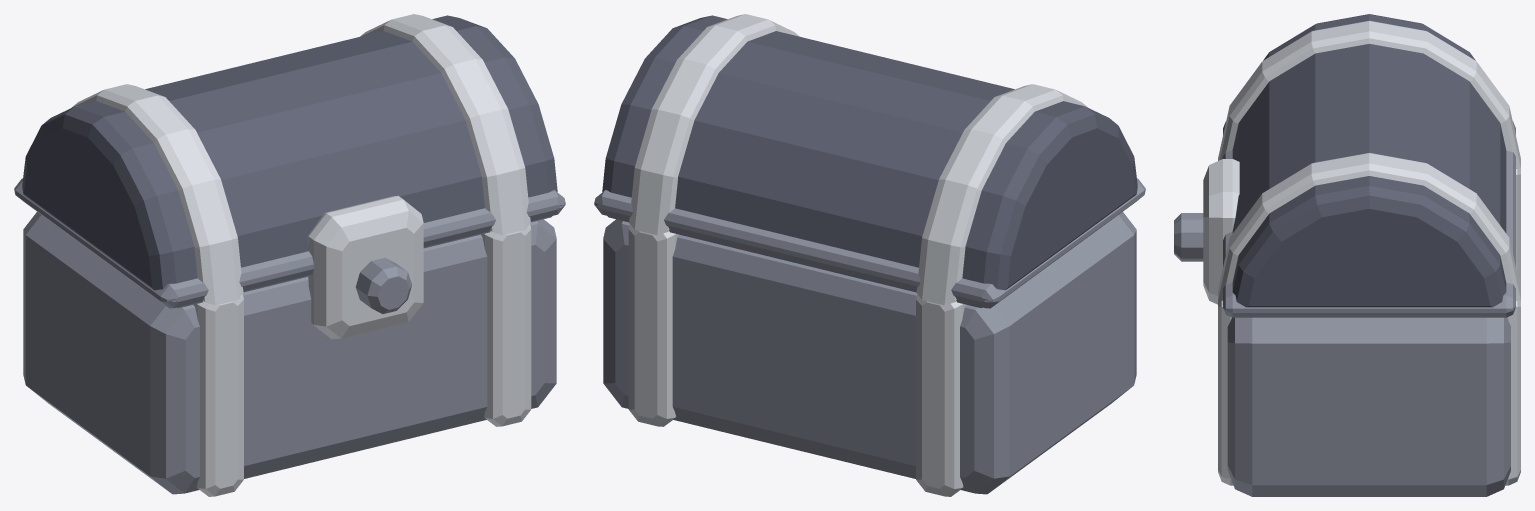
File: game-ui-icon-library-chest-93d2b6df__19001.glb
3 views of the same model, side by side, from view 1: azimuth 30°, elevation 25°; view 2: azimuth 150°, elevation 25°; view 3: azimuth 270°, elevation 25° (orthographic). The views are drawn at different scales.
Visible parts, largest first — view 1: chest; view 2: chest; view 3: chest.
Boxes of the visible parts, x1,y1,x2,y2 form: chest: [14, 14, 565, 496]; chest: [594, 14, 1145, 496]; chest: [1174, 14, 1520, 496].
Bounding box in the file's own units: 0.98 × 0.7925 × 0.7731.
